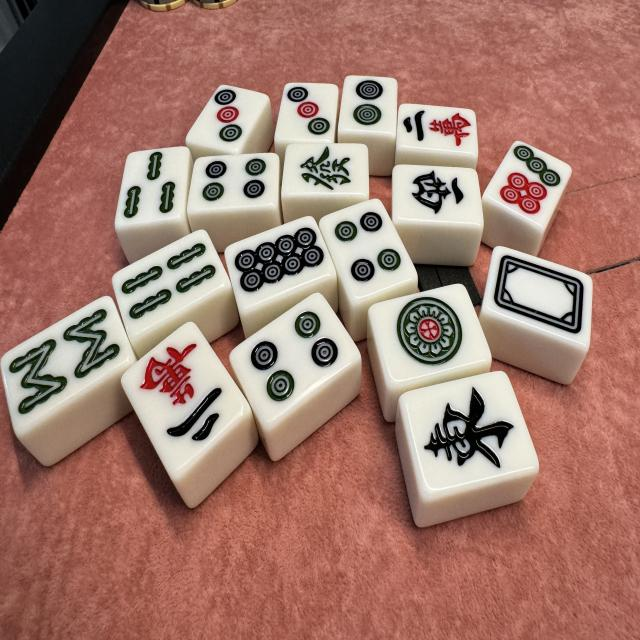hdg: (281, 143, 368, 197)
hdw: (482, 246, 594, 350)
hwe: (398, 371, 540, 500)
hww: (393, 165, 483, 227)
sb3: (114, 146, 189, 228)
sb4: (112, 230, 230, 340)
sb8: (1, 296, 132, 434)
sc2: (120, 322, 252, 481), (395, 103, 478, 158)
sd1: (368, 284, 492, 386)
sd2: (338, 74, 397, 134)
sd3: (185, 84, 269, 154), (274, 82, 338, 143)
sd4: (229, 293, 361, 427), (319, 198, 417, 301), (187, 153, 279, 213)
sd7: (483, 141, 572, 230)
sd8: (224, 217, 336, 312)
